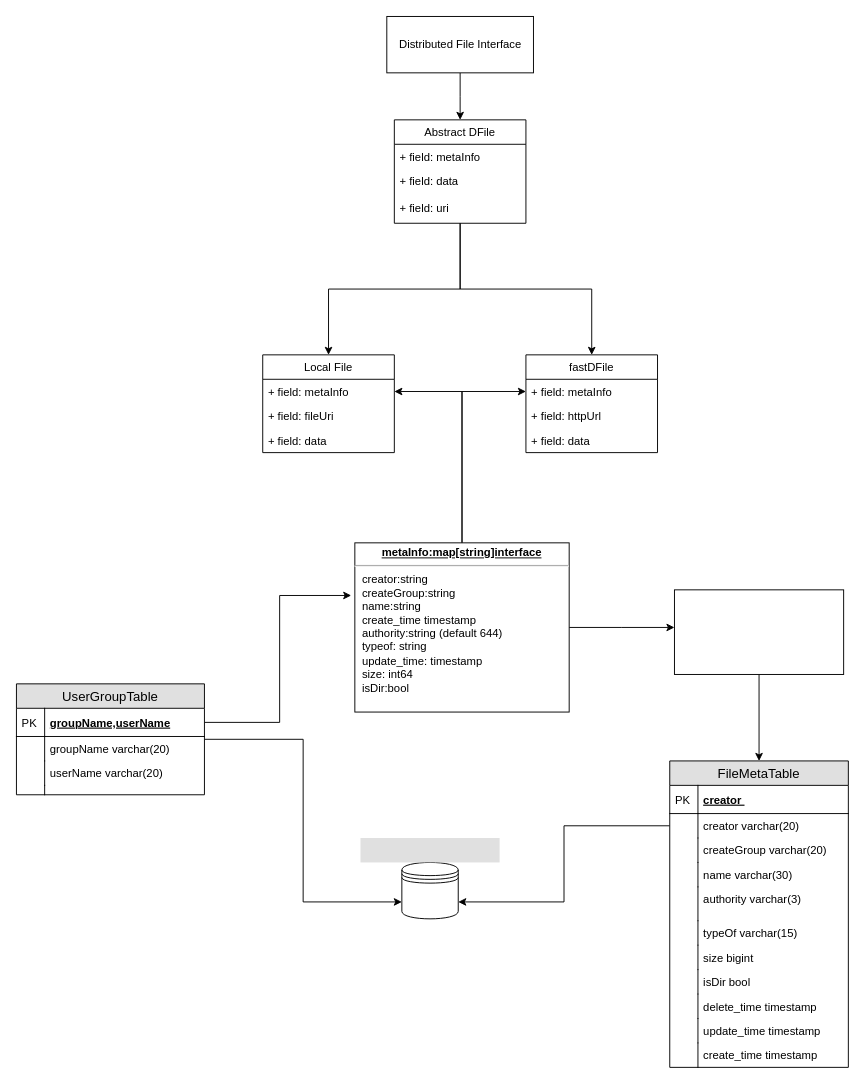
Some shapes in this 865 by 1087 pixel diagram are drawn without their labels. The shapes that lost their labels are listed below. From the top down, each one's centre as x and y in pixels, then its label:
(x=759, y=631): FileMetaTable PK creator index: (name,createGroup) engine: Myisam
(x=429, y=850): cloudStorageSystem
(x=429, y=890): Mysql
